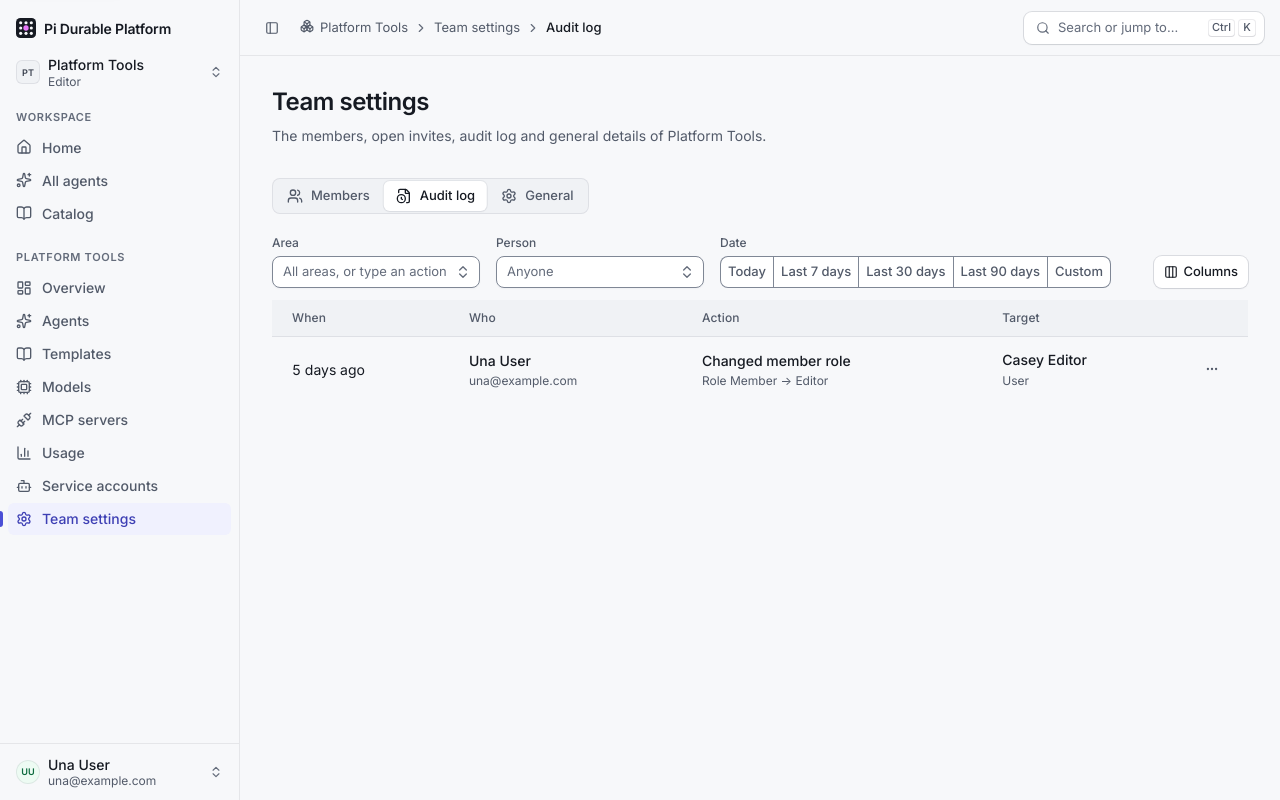
Test: Team settings › Audit log › lists the team's entries with a simple change and opens one
Expected: the text "Changed member role" shows "Role Member → Editor", [702,350,851,389]
What coordinates should you click on to do the following:
click the text "Changed member role"
I would click on:
 (776, 360)
Its box is [702,350,851,371].
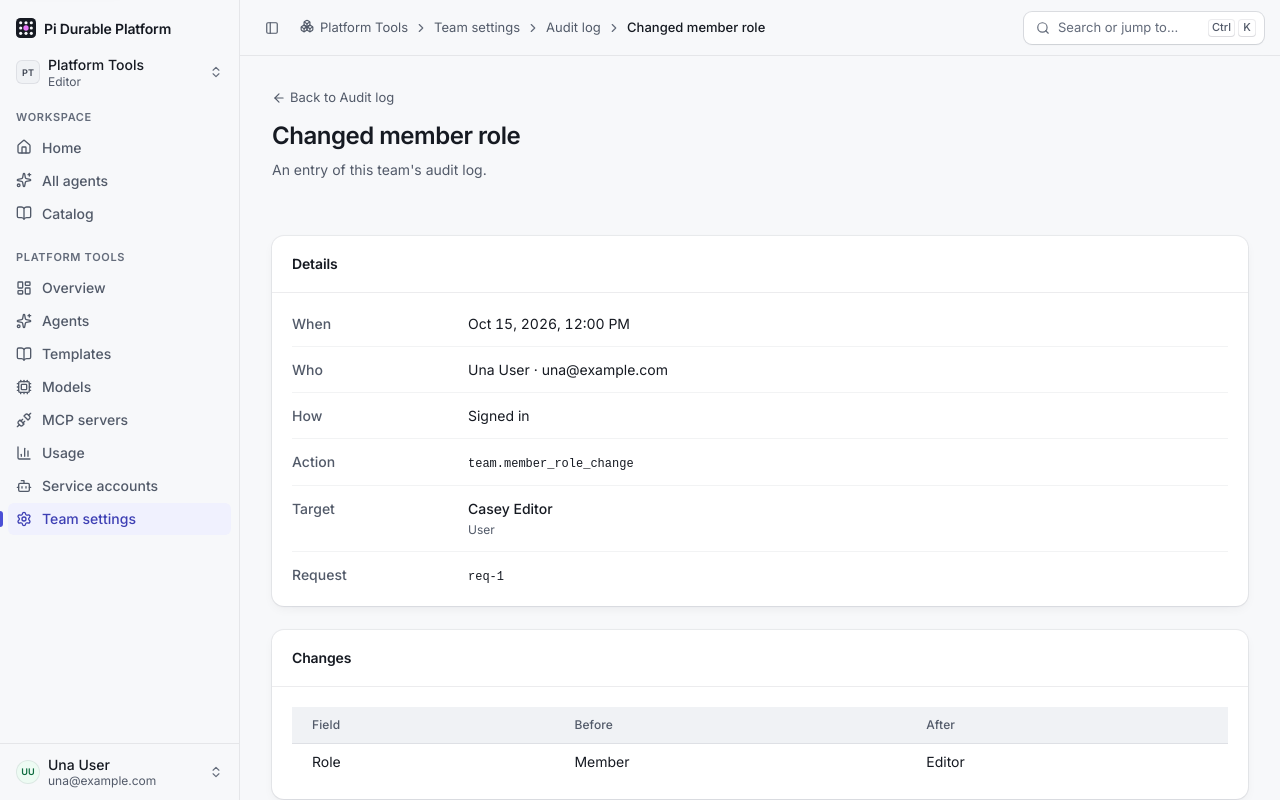
Expected: the heading "Changed member role" is shown, [272,122,520,151]
